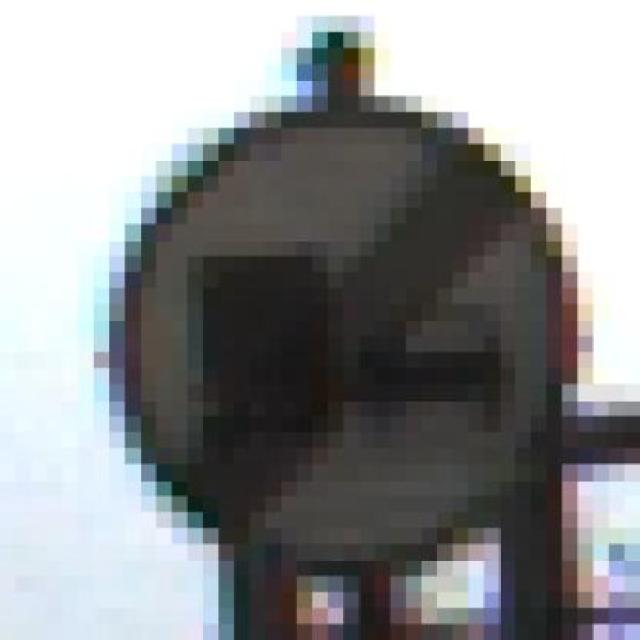Overtaking by trucks is prohibited: (77, 79, 608, 576)
